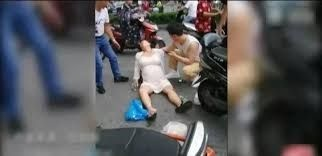falling: (125, 36, 198, 122)
